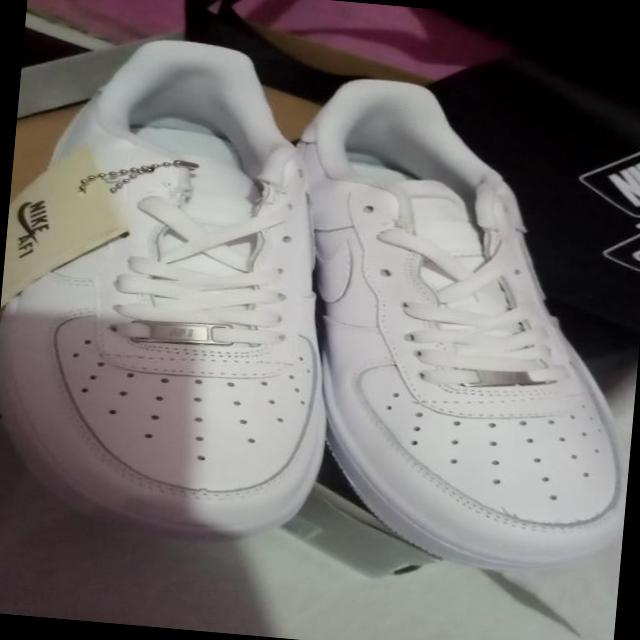nike_fake_airforce: (0, 18, 369, 553), (267, 71, 640, 580)
